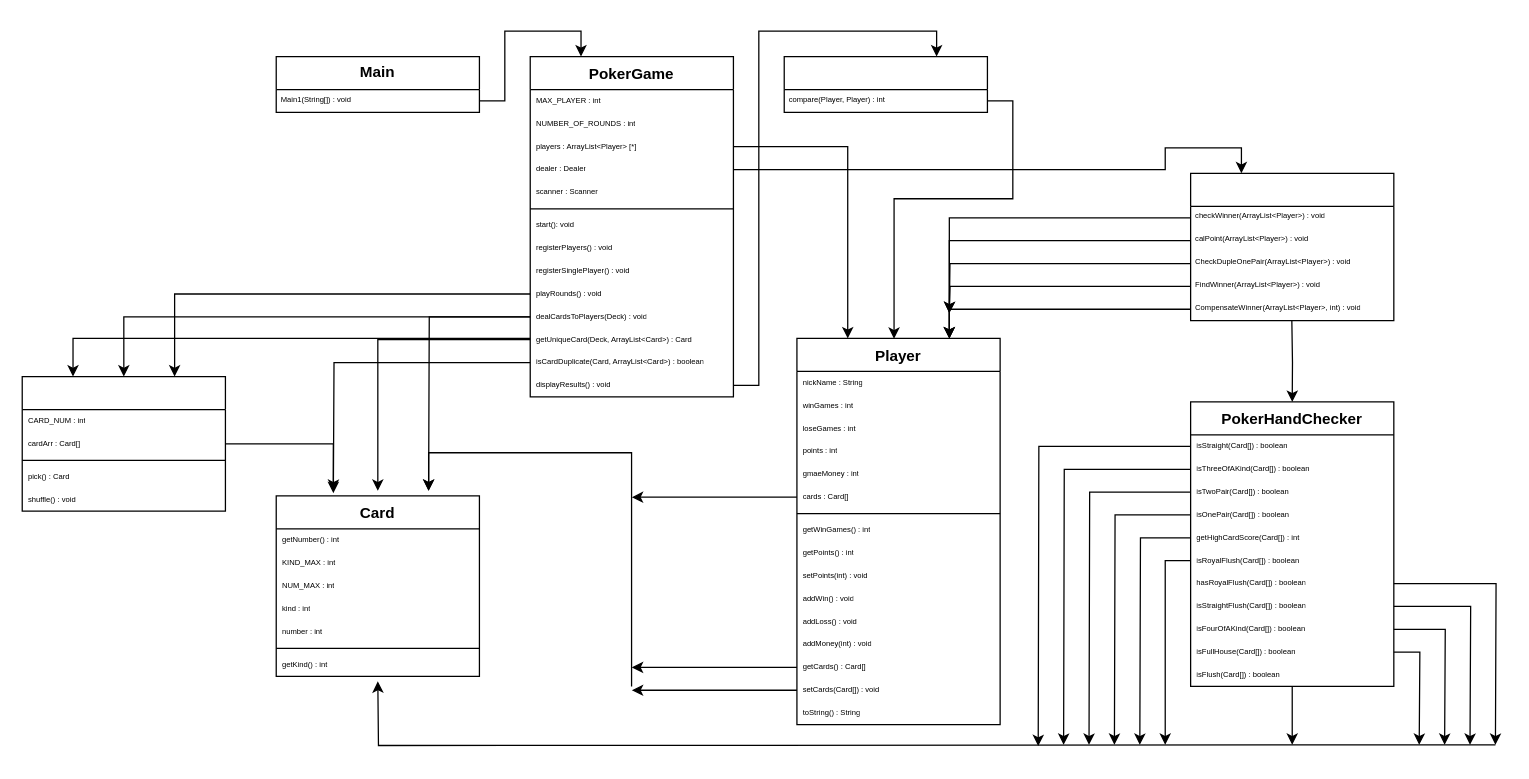
Image size: 1529x779. Some labels were removed from this diagram. Each missing label, with the box of its shape:
Dealer: (1189, 172, 1394, 321)
Deck: (21, 375, 225, 511)
PointDescending: (783, 55, 987, 112)
